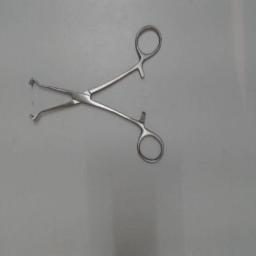Babcock Tissue Forceps: (24, 22, 168, 168)
